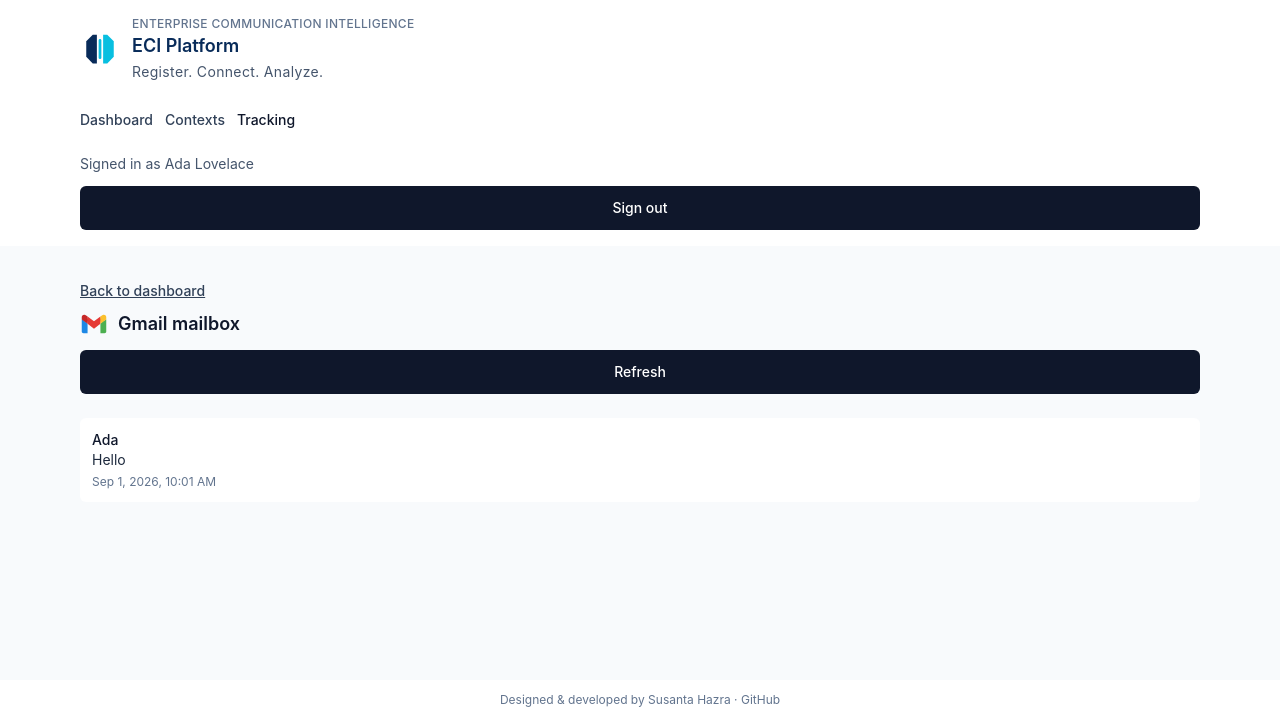
it: context association › associates a selected mailbox message with an active context
The image size is (1280, 720).
Click the text "Hello" at (109, 460), box x1=92 y1=451 x2=126 y2=468
(page scrolled)
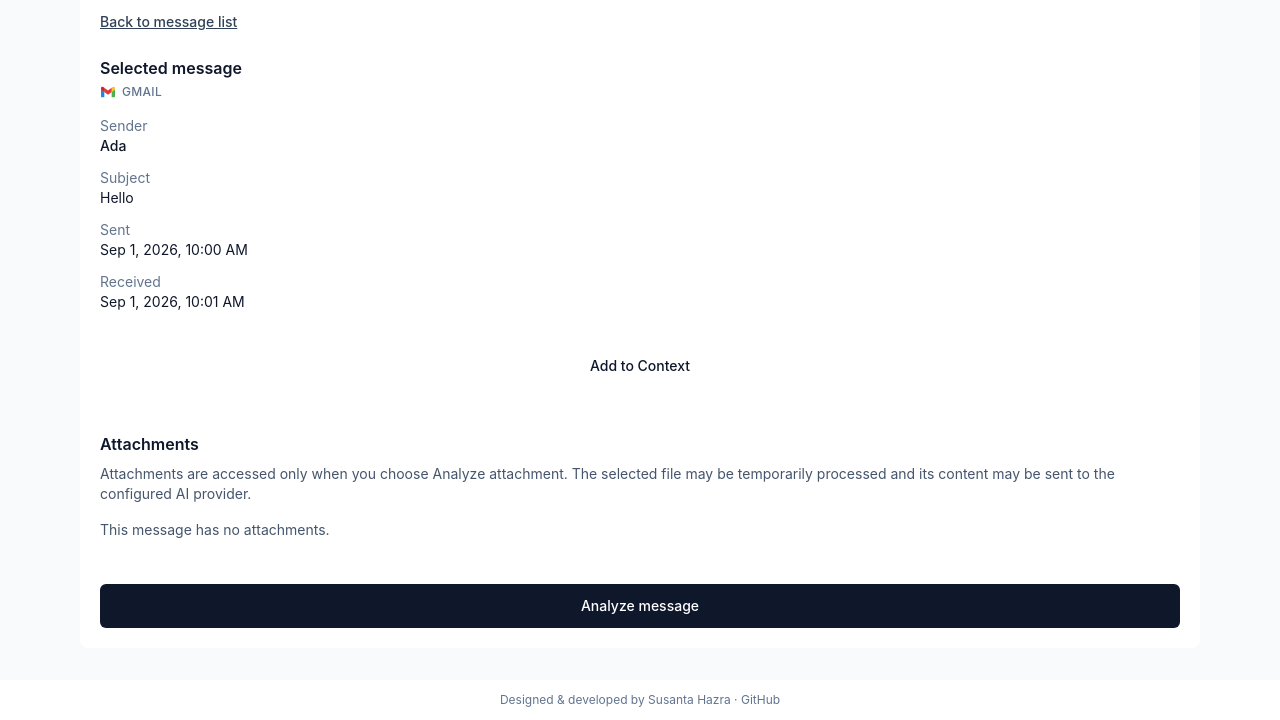
Click the button "Add to Context" at (640, 366), box x1=100 y1=344 x2=1180 y2=388
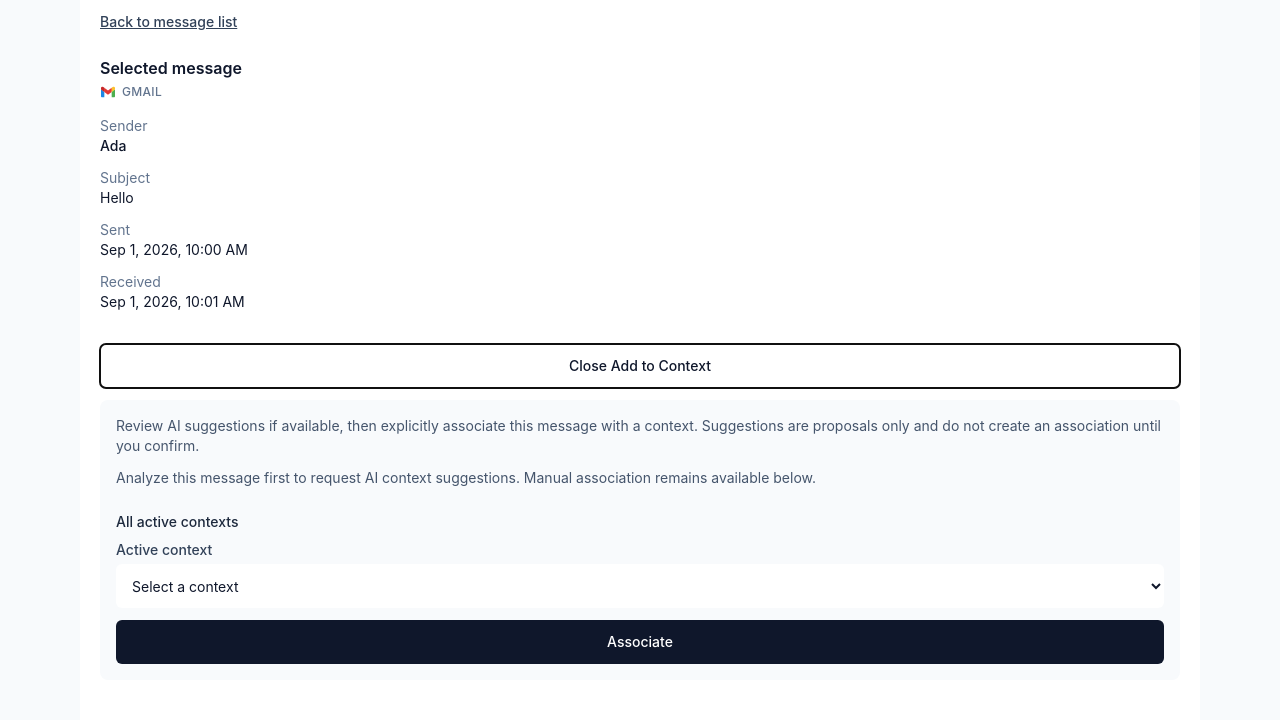
Select "Acme Project (Project)" in the dropdown labelled "Active context" at (640, 586), box x1=116 y1=564 x2=1164 y2=608
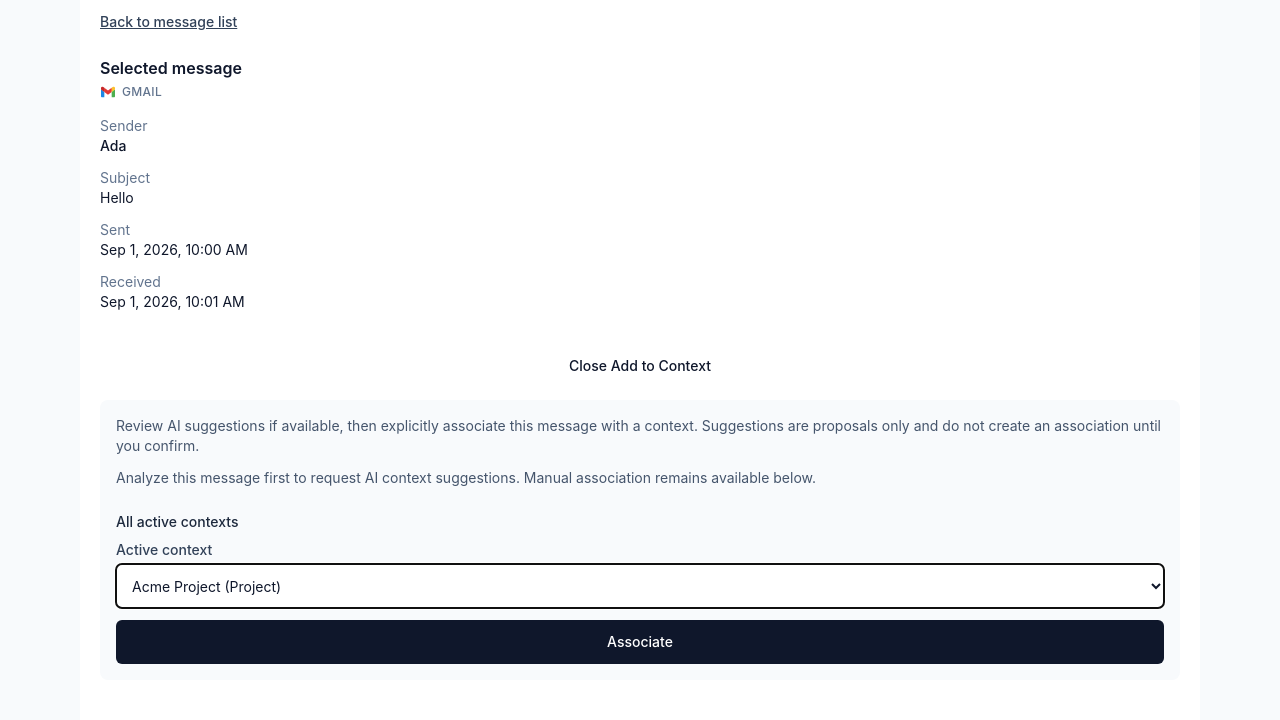
Click the button "Associate" at (640, 642), box x1=116 y1=620 x2=1164 y2=664
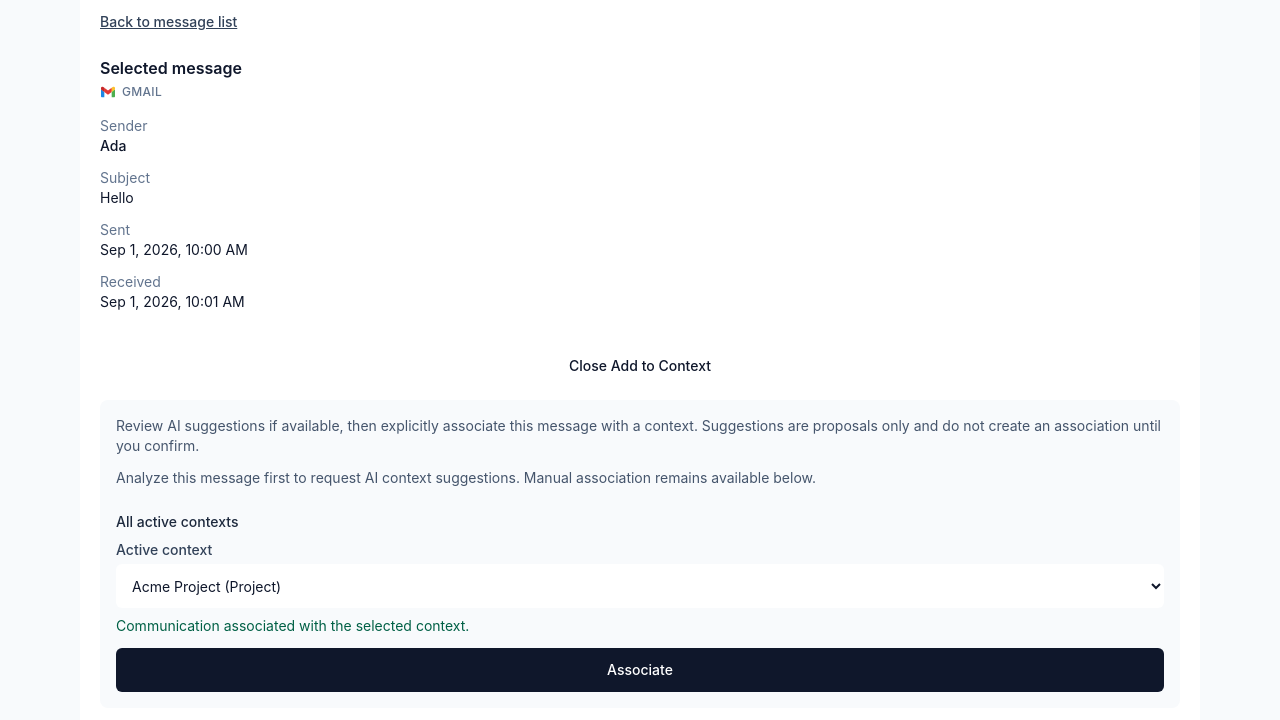
Expected: the text "Communication associated with the selected context." is shown, x1=116 y1=617 x2=469 y2=634
